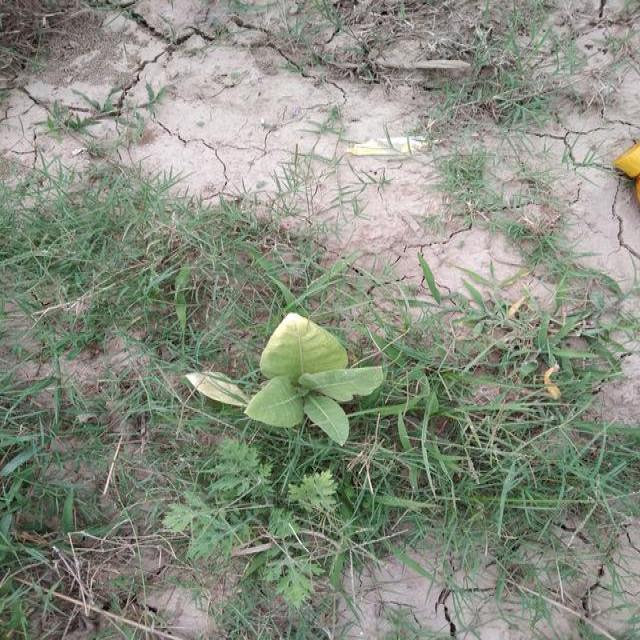crop: (188, 302, 390, 449)
